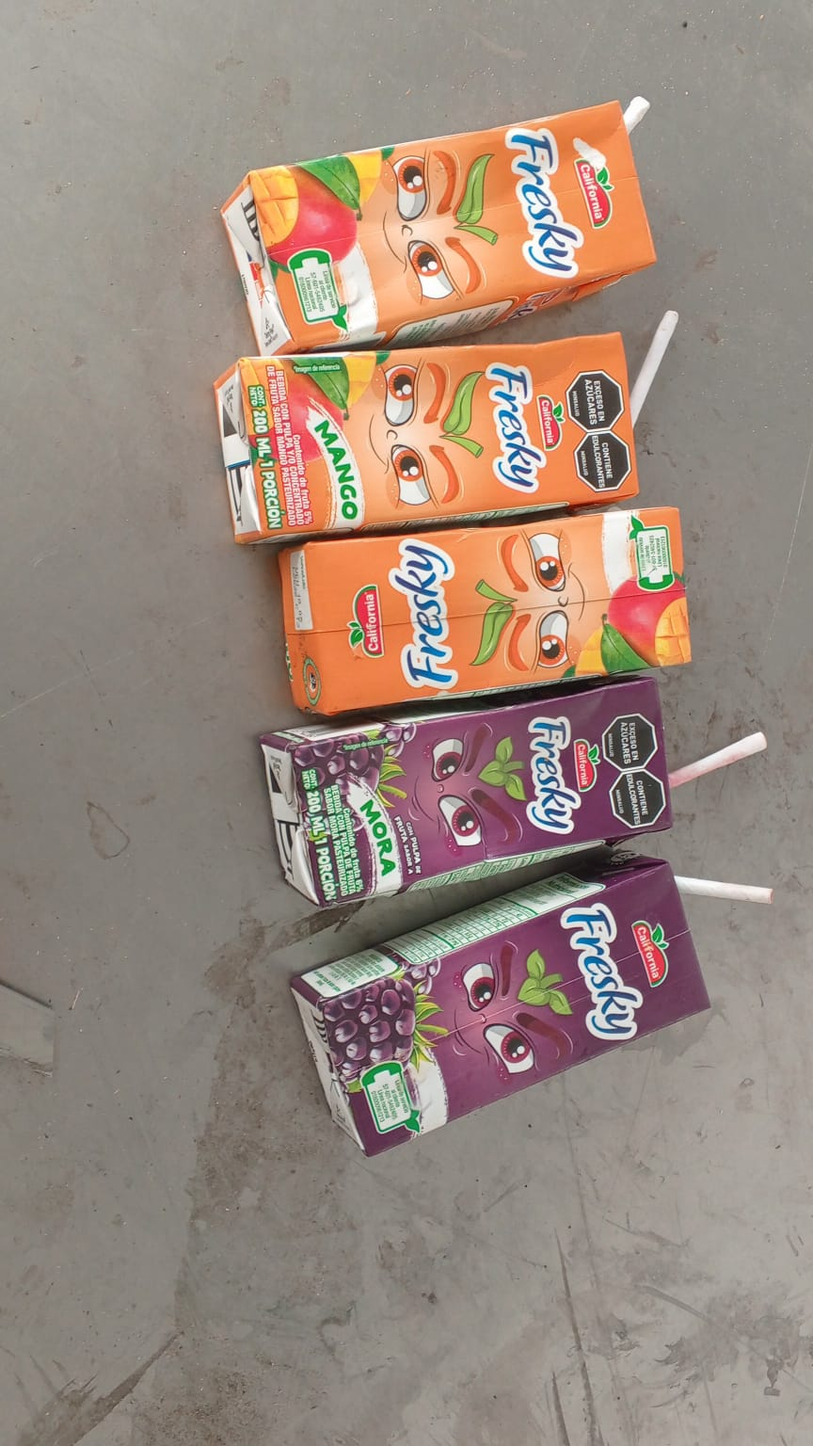Carton: (274, 861, 712, 1156), (218, 99, 661, 351), (260, 682, 673, 895), (286, 508, 691, 714), (220, 353, 653, 538)
